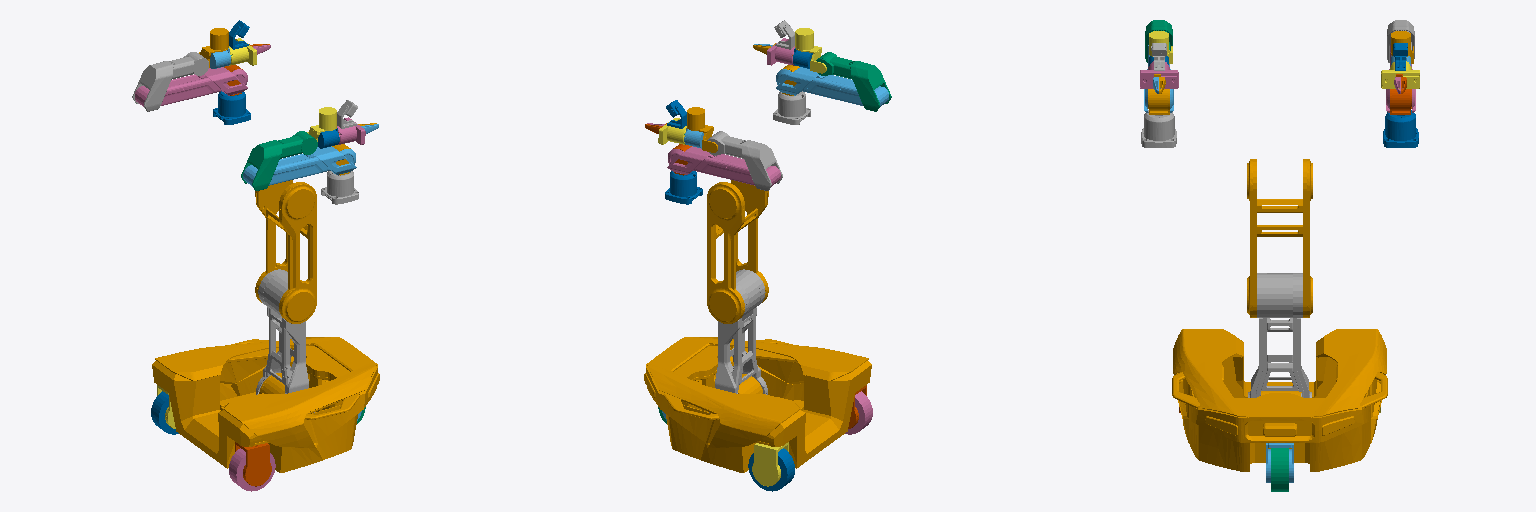
--- Facts derived from the render (not from the file) ---
3 views of the same robot in one strip: view 1: azimuth 30°, elevation 25°; view 2: azimuth 150°, elevation 25°; view 3: azimuth 270°, elevation 25° (orthographic).
Robot: mmp_revB_invconfig_upright_a1x — 34 links, 33 joints (17 revolute, 4 prismatic, 12 fixed); root link base_link; default pose: every joint at zero.
Links seen in each view (by area): view 1: base_link, torso_link2, torso_link1, left_arm_link2, right_arm_link2, right_arm_link3, left_arm_link3, steer_motor_link3, left_arm_base_link, right_arm_base_link, wheel_motor_link3, wheel_motor_link2 (+2 smaller); view 2: base_link, torso_link2, torso_link1, right_arm_link2, left_arm_link2, left_arm_link3, right_arm_link3, steer_motor_link2, right_arm_base_link, left_arm_base_link, right_arm_link4, wheel_motor_link2 (+2 smaller); view 3: base_link, torso_link1, torso_link2, left_arm_base_link, right_arm_base_link, wheel_motor_link1, left_gripper_link, right_gripper_link, left_arm_link1, right_arm_link1.
Link boxes in pixels (left/top/right/bottom): base_link: left=152, top=337, right=379, bottom=472; torso_link2: left=255, top=180, right=316, bottom=323; torso_link1: left=256, top=269, right=314, bottom=412; left_arm_link2: left=135, top=67, right=247, bottom=106; right_arm_link2: left=243, top=146, right=356, bottom=186; right_arm_link3: left=241, top=131, right=317, bottom=190; left_arm_link3: left=132, top=52, right=208, bottom=111; steer_motor_link3: left=235, top=442, right=271, bottom=486; left_arm_base_link: left=213, top=91, right=250, bottom=124; right_arm_base_link: left=321, top=171, right=358, bottom=204; wheel_motor_link3: left=229, top=448, right=275, bottom=491; wheel_motor_link2: left=151, top=391, right=178, bottom=434; base_link: left=644, top=337, right=871, bottom=472; torso_link2: left=707, top=180, right=768, bottom=323; torso_link1: left=709, top=269, right=767, bottom=412; right_arm_link2: left=776, top=67, right=888, bottom=106; left_arm_link2: left=667, top=146, right=780, bottom=186; left_arm_link3: left=707, top=131, right=782, bottom=190; right_arm_link3: left=816, top=52, right=891, bottom=111; steer_motor_link2: left=752, top=442, right=788, bottom=486; right_arm_base_link: left=773, top=91, right=810, bottom=124; left_arm_base_link: left=665, top=171, right=702, bottom=204; right_arm_link4: left=795, top=28, right=826, bottom=73; wheel_motor_link2: left=748, top=448, right=794, bottom=491; base_link: left=1172, top=329, right=1387, bottom=471; torso_link1: left=1248, top=273, right=1311, bottom=397; torso_link2: left=1247, top=159, right=1312, bottom=317; left_arm_base_link: left=1383, top=110, right=1418, bottom=147; right_arm_base_link: left=1141, top=110, right=1176, bottom=147; wheel_motor_link1: left=1271, top=448, right=1288, bottom=491; left_gripper_link: left=1381, top=61, right=1419, bottom=88; right_gripper_link: left=1140, top=61, right=1178, bottom=88; left_arm_link1: left=1390, top=89, right=1411, bottom=114; right_arm_link1: left=1148, top=89, right=1169, bottom=114.
Size in the robot's own frame: 0.6042 by 0.7783 by 1.29 metres.
31 mesh visuals loaded from 32 distinct referenced files (31 OBJ); not drawn: 1 (reference not matched to a file when rendering).

URDF robot description (mmp_revB_invconfig_upright_a1x):
<?xml version="1.0" encoding="utf-8"?>
<!-- This URDF was automatically created by SolidWorks to URDF Exporter! Originally created by Stephen Brawner ([email redacted]) 
     Commit Version: 1.6.0-4-g7f85cfe  Build Version: 1.6.7995.38578
     For more information, please see http://wiki.ros.org/sw_urdf_exporter -->
<robot
  name="mmp_revB_invconfig_upright_a1x">
  <link
    name="base_link">
    <inertial>
      <origin
        xyz="0.0718033657159837 -0.0016279349766449 0.128750850965126"
        rpy="0 0 0" />
      <mass
        value="25.114" />
      <inertia
        ixx="0.190993086908409"
        ixy="7.01153963312701E-05"
        ixz="-0.00785937977791519"
        iyy="0.152035922355254"
        iyz="-0.000494758898409346"
        izz="0.29121889848538" />
    </inertial>
    <visual>
      <origin
        xyz="0 0 0"
        rpy="0 0 0" />
      <geometry>
        <mesh
          filename="meshes/base_link.obj" />
      </geometry>
      
    </visual>
    <collision>
      <origin
        xyz="0 0 0"
        rpy="0 0 0" />
      <geometry>
        <mesh
          filename="meshes/base_link.obj" />
      </geometry>
    </collision>
  </link>
  <link
    name="steer_motor_link1">
    <inertial>
      <origin
        xyz="-1.76196610579549E-07 -7.75116053202478E-05 -0.0852489956386505"
        rpy="0 0 0" />
      <mass
        value="1.5" />
      <inertia
        ixx="0.000338657650556839"
        ixy="6.14197589167664E-09"
        ixz="6.6056392682533E-09"
        iyy="0.000503900951850049"
        iyz="3.6051622873431E-08"
        izz="0.000211486748436409" />
    </inertial>
    <visual>
      <origin
        xyz="0 0 0"
        rpy="0 0 0" />
      <geometry>
        <mesh
          filename="meshes/steer_motor_link1.obj" />
      </geometry>
      
    </visual>
    <collision>
      <origin
        xyz="0 0 0"
        rpy="0 0 0" />
      <geometry>
        <mesh
          filename="meshes/steer_motor_link1.obj" />
      </geometry>
    </collision>
  </link>
  <joint
    name="steer_motor_joint1"
    type="fixed">
    <origin
      xyz="0.29183 -0.0014897 0.18165"
      rpy="0 0 0" />
    <parent
      link="base_link" />
    <child
      link="steer_motor_link1" />
    <axis
      xyz="0 0 1" />
    <limit
      lower="-3.1416"
      upper="3.1416"
      effort="20"
      velocity="20" />
  </joint>
  <link
    name="wheel_motor_link1">
    <inertial>
      <origin
        xyz="0 -9.99250577455509E-13 -2.34534613952064E-15"
        rpy="0 0 0" />
      <mass
        value="1.5" />
      <inertia
        ixx="0.00104702497304016"
        ixy="2.02186210571336E-18"
        ixz="-8.67361737988254E-20"
        iyy="0.00181031135070458"
        iyz="3.54126040189266E-17"
        izz="0.00104702497304016" />
    </inertial>
    <visual>
      <origin
        xyz="0 0 0"
        rpy="0 0 0" />
      <geometry>
        <mesh
          filename="meshes/wheel_motor_link1.obj" />
      </geometry>
      
    </visual>
    <collision>
      <origin
        xyz="0 0 0"
        rpy="0 0 0" />
      <geometry>
        <mesh
          filename="meshes/wheel_motor_link1.obj" />
      </geometry>
    </collision>
  </link>
  <joint
    name="wheel_motor_joint1"
    type="fixed">
    <origin
      xyz="0 0 -0.11165"
      rpy="0 0 0" />
    <parent
      link="steer_motor_link1" />
    <child
      link="wheel_motor_link1" />
    <axis
      xyz="0 1 0" />
  </joint>
  <link
    name="steer_motor_link2">
    <inertial>
      <origin
        xyz="1.76196610607304E-07 7.75116053202962E-05 -0.0852489956386505"
        rpy="0 0 0" />
      <mass
        value="1.5" />
      <inertia
        ixx="0.000338657650556839"
        ixy="6.1419758916829E-09"
        ixz="-6.6056392682485E-09"
        iyy="0.000503900951850049"
        iyz="-3.60516228734399E-08"
        izz="0.000211486748436408" />
    </inertial>
    <visual>
      <origin
        xyz="0 0 0"
        rpy="0 0 0" />
      <geometry>
        <mesh
          filename="meshes/steer_motor_link2.obj" />
      </geometry>
      
    </visual>
    <collision>
      <origin
        xyz="0 0 0"
        rpy="0 0 0" />
      <geometry>
        <mesh
          filename="meshes/steer_motor_link2.obj" />
      </geometry>
    </collision>
  </link>
  <joint
    name="steer_motor_joint2"
    type="revolute">
    <origin
      xyz="-0.16817 0.23851 0.18165"
      rpy="0 0 0" />
    <parent
      link="base_link" />
    <child
      link="steer_motor_link2" />
    <axis
      xyz="0 0 1" />
    <limit
      lower="-3.1416"
      upper="3.1416"
      effort="20"
      velocity="20" />
  </joint>
  <link
    name="wheel_motor_link2">
    <inertial>
      <origin
        xyz="2.77555756156289E-17 -1.94289029309402E-16 -2.34621350125863E-15"
        rpy="0 0 0" />
      <mass
        value="1.5" />
      <inertia
        ixx="0.00104702497304016"
        ixy="2.01102008398851E-18"
        ixz="-8.67361737988254E-20"
        iyy="0.00181031135070458"
        iyz="3.54092952964764E-17"
        izz="0.00104702497304016" />
    </inertial>
    <visual>
      <origin
        xyz="0 0 0"
        rpy="0 0 0" />
      <geometry>
        <mesh
          filename="meshes/wheel_motor_link2.obj" />
      </geometry>
      
    </visual>
    <collision>
      <origin
        xyz="0 0 0"
        rpy="0 0 0" />
      <geometry>
        <mesh
          filename="meshes/wheel_motor_link2.obj" />
      </geometry>
    </collision>
  </link>
  <joint
    name="wheel_motor_joint2"
    type="fixed">
    <origin
      xyz="0 0 -0.11165"
      rpy="0 0 0" />
    <parent
      link="steer_motor_link2" />
    <child
      link="wheel_motor_link2" />
    <axis
      xyz="0 1 0" />
  </joint>
  <link
    name="steer_motor_link3">
    <inertial>
      <origin
        xyz="1.76196610579549E-07 7.75116053202407E-05 -0.0852489956386505"
        rpy="0 0 0" />
      <mass
        value="1.5" />
      <inertia
        ixx="0.000338657650556839"
        ixy="6.14197589167356E-09"
        ixz="-6.60563926825079E-09"
        iyy="0.000503900951850049"
        iyz="-3.60516228734413E-08"
        izz="0.000211486748436408" />
    </inertial>
    <visual>
      <origin
        xyz="0 0 0"
        rpy="0 0 0" />
      <geometry>
        <mesh
          filename="meshes/steer_motor_link3.obj" />
      </geometry>
      
    </visual>
    <collision>
      <origin
        xyz="0 0 0"
        rpy="0 0 0" />
      <geometry>
        <mesh
          filename="meshes/steer_motor_link3.obj" />
      </geometry>
    </collision>
  </link>
  <joint
    name="steer_motor_joint3"
    type="revolute">
    <origin
      xyz="-0.16817 -0.24149 0.18165"
      rpy="0 0 0" />
    <parent
      link="base_link" />
    <child
      link="steer_motor_link3" />
    <axis
      xyz="0 0 1" />
    <limit
      lower="-3.1416"
      upper="3.1416"
      effort="20"
      velocity="20" />
  </joint>
  <link
    name="wheel_motor_link3">
    <inertial>
      <origin
        xyz="0 -1.94289029309402E-16 -2.34274405430668E-15"
        rpy="0 0 0" />
      <mass
        value="1.5" />
      <inertia
        ixx="0.00104702497304016"
        ixy="2.00017806226365E-18"
        ixz="-8.67361737988255E-20"
        iyy="0.00181031135070458"
        iyz="3.53868224535946E-17"
        izz="0.00104702497304016" />
    </inertial>
    <visual>
      <origin
        xyz="0 0 0"
        rpy="0 0 0" />
      <geometry>
        <mesh
          filename="meshes/wheel_motor_link3.obj" />
      </geometry>
      
    </visual>
    <collision>
      <origin
        xyz="0 0 0"
        rpy="0 0 0" />
      <geometry>
        <mesh
          filename="meshes/wheel_motor_link3.obj" />
      </geometry>
    </collision>
  </link>
  <joint
    name="wheel_motor_joint3"
    type="fixed">
    <origin
      xyz="0 0 -0.11165"
      rpy="0 0 0" />
    <parent
      link="steer_motor_link3" />
    <child
      link="wheel_motor_link3" />
    <axis
      xyz="0 1 0" />
  </joint>
  <link
    name="torso_link1">
    <inertial>
      <origin
        xyz="0.00321196798398059 0.0116566745256909 0.100697975240297"
        rpy="0 0 0" />
      <mass
        value="4.807" />
      <inertia
        ixx="0.00310511493924453"
        ixy="3.89455548949465E-06"
        ixz="-0.000112029811012738"
        iyy="0.00326868759782864"
        iyz="4.14882596510336E-05"
        izz="0.000354993987137864" />
    </inertial>
    <visual>
      <origin
        xyz="0 0 0"
        rpy="0 0 0" />
      <geometry>
        <mesh
          filename="meshes/torso_link1.obj" />
      </geometry>
      
    </visual>
    <collision>
      <origin
        xyz="0 0 0"
        rpy="0 0 0" />
      <geometry>
        <mesh
          filename="meshes/torso_link1.obj" />
      </geometry>
    </collision>
  </link>
  <joint
    name="torso_joint1"
    type="revolute">
    <origin
      xyz="0.091831 0.00036033 0.14865"
      rpy="0 0 0" />
    <parent
      link="base_link" />
    <child
      link="torso_link1" />
    <axis
      xyz="0 1 0" />
    <limit
      lower="-1.5708"
      upper="0.436333"
      effort="100"
      velocity="2.5" />
  </joint>
  <link
    name="torso_link2">
    <inertial>
      <origin
        xyz="0.00627300956924463 0.00536087570300695 0.184118796618929"
        rpy="0 0 0" />
      <mass
        value="2.779" />
      <inertia
        ixx="0.0309540761907757"
        ixy="-5.57959685881806E-07"
        ixz="0.000297952176364751"
        iyy="0.032517017639908"
        iyz="9.00096610164517E-07"
        izz="0.00185256464591929" />
    </inertial>
    <visual>
      <origin
        xyz="0 0 0"
        rpy="0 0 0" />
      <geometry>
        <mesh
          filename="meshes/torso_link2.obj" />
      </geometry>
      
    </visual>
    <collision>
      <origin
        xyz="0 0 0"
        rpy="0 0 0" />
      <geometry>
        <mesh
          filename="meshes/torso_link2.obj" />
      </geometry>
    </collision>
  </link>
  <joint
    name="torso_joint2"
    type="revolute">
    <origin
      xyz="0 -0.00185 0.35"
      rpy="0 0 0" />
    <parent
      link="torso_link1" />
    <child
      link="torso_link2" />
    <axis
      xyz="0 1 0" />
    <limit
      lower="-2.705262"
      upper="2.705262"
      effort="100"
      velocity="2.5" />
  </joint>
  <link
    name="torso_link3">
    <inertial>
      <origin
        xyz="-0.0416383086406449 0.000484599582373232 0.051111008977659"
        rpy="0 0 0" />
      <mass
        value="5.833" />
      <inertia
        ixx="0.00647219350010978"
        ixy="-4.51460802718021E-07"
        ixz="-1.28687447342324E-05"
        iyy="0.0054231706909373"
        iyz="-1.67510995383755E-07"
        izz="0.00845061936347779" />
    </inertial>
    <visual>
      <origin
        xyz="0 0 0"
        rpy="0 0 0" />
      <geometry>
        <mesh
          filename="meshes/torso_link3.obj" />
      </geometry>
      
    </visual>
    <collision>
      <origin
        xyz="0 0 0"
        rpy="0 0 0" />
      <geometry>
        <mesh
          filename="meshes/torso_link3.obj" />
      </geometry>
    </collision>
  </link>
  <joint
    name="torso_joint3"
    type="revolute">
    <origin
      xyz="9.6485E-05 0 0.35"
      rpy="0 0 0" />
    <parent
      link="torso_link2" />
    <child
      link="torso_link3" />
    <axis
      xyz="0 -1 0" />
    <limit
      lower="-1.5708"
      upper="1.5708"
      effort="100"
      velocity="2.5" />
  </joint>
  <link
    name="camera_head_left_link">
    <collision>
      <origin
        xyz="0 0 0"
        rpy="0 0 0" />
      <geometry>
        <mesh
          filename="meshes/camera_head_left_link.obj" />
      </geometry>
    </collision>
  </link>
  <joint
    name="camera_head_left_joint"
    type="fixed">
    <origin
      xyz="0.054947 0.03149 0.63214"
      rpy="-2.0952 4.1972E-05 -1.5709" />
    <parent
      link="torso_link3" />
    <child
      link="camera_head_left_link" />
    <axis
      xyz="0 0 0" />
  </joint>
  <link
    name="camera_head_right_link">
  </link>
  <joint
    name="camera_head_right_joint"
    type="fixed">
    <origin
      xyz="0.054943 -0.03351 0.63214"
      rpy="-2.0952 4.1972E-05 -1.5709" />
    <parent
      link="torso_link3" />
    <child
      link="camera_head_right_link" />
    <axis
      xyz="0 0 0" />
  </joint>
  <link
    name="left_arm_base_link">
    <inertial>
      <origin
        xyz="0.0030333225964161 -0.000695374211760413 0.0297999913998699"
        rpy="0 0 0" />
      <mass
        value="0.786" />
      <inertia
        ixx="0.000209638954503881"
        ixy="1.40428307955712E-06"
        ixz="5.68689686775343E-06"
        iyy="0.000199797107592004"
        iyz="-3.65725364306001E-06"
        izz="0.00023745988736141" />
    </inertial>
    <visual>
      <origin
        xyz="0 0 0"
        rpy="0 0 0" />
      <geometry>
        <mesh
          filename="meshes/left_arm_base_link.obj" />
      </geometry>
      
    </visual>
    <collision>
      <origin
        xyz="0 0 0"
        rpy="0 0 0" />
      <geometry>
        <mesh
          filename="meshes/left_arm_base_link.obj" />
      </geometry>
    </collision>
  </link>
  <joint
    name="left_arm_base_joint"
    type="fixed">
    <origin
      xyz="0 0.335 0.12306"
      rpy="0 0 0" />
    <parent
      link="torso_link3" />
    <child
      link="left_arm_base_link" />
    <axis
      xyz="0 0 0" />
  </joint>
  <link
    name="left_arm_link1">
    <inertial>
      <origin
        xyz="3.42079032877862E-07 -0.00198629091504759 0.0468866154783616"
        rpy="0 0 0" />
      <mass
        value="0.839" />
      <inertia
        ixx="0.000224145218285449"
        ixy="-4.77827595565432E-10"
        ixz="8.43370254611206E-09"
        iyy="0.000269809362921142"
        iyz="9.38346508356547E-09"
        izz="0.000218726872211685" />
    </inertial>
    <visual>
      <origin
        xyz="0 0 0"
        rpy="0 0 0" />
      <geometry>
        <mesh
          filename="meshes/left_arm_link1.obj" />
      </geometry>
      
    </visual>
    <collision>
      <origin
        xyz="0 0 0"
        rpy="0 0 0" />
      <geometry>
        <mesh
          filename="meshes/left_arm_link1.obj" />
      </geometry>
    </collision>
  </link>
  <joint
    name="left_arm_joint1"
    type="revolute">
    <origin
      xyz="0 0 0.08605"
      rpy="0 0 0" />
    <parent
      link="left_arm_base_link" />
    <child
      link="left_arm_link1" />
    <axis
      xyz="0 0 1" />
    <limit
      lower="-2.8798"
      upper="2.8798"
      effort="27"
      velocity="10.472" />
  </joint>
  <link
    name="left_arm_link2">
    <inertial>
      <origin
        xyz="-0.122675172740935 -0.0295384346078661 0.00365030178710546"
        rpy="0 0 0" />
      <mass
        value="1.09" />
      <inertia
        ixx="0.000388241930413796"
        ixy="-2.17638982375649E-05"
        ixz="8.91426532538946E-06"
        iyy="0.00274637473933513"
        iyz="1.19748272961647E-06"
        izz="0.00278012046088806" />
    </inertial>
    <visual>
      <origin
        xyz="0 0 0"
        rpy="0 0 0" />
      <geometry>
        <mesh
          filename="meshes/left_arm_link2.obj" />
      </geometry>
      
    </visual>
    <collision>
      <origin
        xyz="0 0 0"
        rpy="0 0 0" />
      <geometry>
        <mesh
          filename="meshes/left_arm_link2.obj" />
      </geometry>
    </collision>
  </link>
  <joint
    name="left_arm_joint2"
    type="revolute">
    <origin
      xyz="0 0.03075 0.04925"
      rpy="0 0 0" />
    <parent
      link="left_arm_link1" />
    <child
      link="left_arm_link2" />
    <axis
      xyz="0 1 0" />
    <limit
      lower="0"
      upper="3.1416"
      effort="50"
      velocity="12.5664" />
  </joint>
  <link
    name="left_arm_link3">
    <inertial>
      <origin
        xyz="0.0566624793223791 -0.0291316466078999 0.0568018844686509"
        rpy="0 0 0" />
      <mass
        value="0.739" />
      <inertia
        ixx="0.000257907545256439"
        ixy="1.02695451350475E-05"
        ixz="-0.000131693719602983"
        iyy="0.000671352233244435"
        iyz="-8.03382534299068E-06"
        izz="0.000550051611056369" />
    </inertial>
    <visual>
      <origin
        xyz="0 0 0"
        rpy="0 0 0" />
      <geometry>
        <mesh
          filename="meshes/left_arm_link3.obj" />
      </geometry>
      
    </visual>
    <collision>
      <origin
        xyz="0 0 0"
        rpy="0 0 0" />
      <geometry>
        <mesh
          filename="meshes/left_arm_link3.obj" />
      </geometry>
    </collision>
  </link>
  <joint
    name="left_arm_joint3"
    type="revolute">
    <origin
      xyz="-0.3 0.00025004 0"
      rpy="0 0 0" />
    <parent
      link="left_arm_link2" />
    <child
      link="left_arm_link3" />
    <axis
      xyz="0 1 0" />
    <limit
      lower="-3.3161"
      upper="0"
      effort="27"
      velocity="10.472" />
  </joint>
  <link
    name="left_arm_link4">
    <inertial>
      <origin
        xyz="0.0699840030193581 -0.0287504697364447 0.0541968318197228"
        rpy="0 0 0" />
      <mass
        value="0.419" />
      <inertia
        ixx="6.62006896114572E-05"
        ixy="-9.3635648969069E-09"
        ixz="-4.25876556256057E-09"
        iyy="6.79307239443371E-05"
        iyz="7.77726883989867E-07"
        izz="6.69265447808637E-05" />
    </inertial>
    <visual>
      <origin
        xyz="0 0 0"
        rpy="0 0 0" />
      <geometry>
        <mesh
          filename="meshes/left_arm_link4.obj" />
      </geometry>
      
    </visual>
    <collision>
      <origin
        xyz="0 0 0"
        rpy="0 0 0" />
      <geometry>
        <mesh
          filename="meshes/left_arm_link4.obj" />
      </geometry>
    </collision>
  </link>
  <joint
    name="left_arm_joint4"
    type="revolute">
    <origin
      xyz="0.1747 0.00049739 0.075485"
      rpy="0 0 0" />
    <parent
      link="left_arm_link3" />
    <child
      link="left_arm_link4" />
    <axis
      xyz="0 1 0" />
    <limit
      lower="-1.5708"
      upper="1.5708"
      effort="14"
      velocity="32.9867" />
  </joint>
  <link
    name="left_arm_link5">
    <inertial>
      <origin
        xyz="-0.000803198983898074 -2.29028914278118E-07 -0.0402656141956459"
        rpy="0 0 0" />
      <mass
        value="0.054" />
      <inertia
        ixx="5.80420988761095E-05"
        ixy="-1.94657864482709E-13"
        ixz="1.11613844426808E-14"
        iyy="5.76397557796697E-05"
        iyz="-3.56183851121823E-11"
        izz="5.68558379713068E-05" />
    </inertial>
    <visual>
      <origin
        xyz="0 0 0"
        rpy="0 0 0" />
      <geometry>
        <mesh
          filename="meshes/left_arm_link5.obj" />
      </geometry>
      
    </visual>
    <collision>
      <origin
        xyz="0 0 0"
        rpy="0 0 0" />
      <geometry>
        <mesh
          filename="meshes/left_arm_link5.obj" />
      </geometry>
    </collision>
  </link>
  <joint
    name="left_arm_joint5"
    type="revolute">
    <origin
      xyz="0.08 -0.031498 0.0405"
      rpy="0 0 0" />
    <parent
      link="left_arm_link4" />
    <child
      link="left_arm_link5" />
    <axis
      xyz="0 0 1" />
    <limit
      lower="-1.5708"
      upper="1.5708"
      effort="14"
      velocity="32.9867" />
  </joint>
  <link
    name="left_arm_link6">
    <inertial>
      <origin
        xyz="0.00709944426961403 -8.90673146347609E-10 -3.82632235882419E-05"
        rpy="0 0 0" />
      <mass
        value="0.031" />
      <inertia
        ixx="3.44527427683917E-06"
        ixy="-2.00656296989553E-13"
        ixz="-1.26136975189559E-09"
        iyy="1.82572780689222E-06"
        iyz="-3.95364679222355E-15"
        izz="1.81730990577526E-06" />
    </inertial>
    <visual>
      <origin
        xyz="0 0 0"
        rpy="0 0 0" />
      <geometry>
        <mesh
          filename="meshes/left_arm_link6.obj" />
      </geometry>
      
    </visual>
    <collision>
      <origin
        xyz="0 0 0"
        rpy="0 0 0" />
      <geometry>
        <mesh
          filename="meshes/left_arm_link6.obj" />
      </geometry>
    </collision>
  </link>
  <joint
    name="left_arm_joint6"
    type="revolute">
    <origin
      xyz="0.022503 0 -0.0405"
      rpy="0 0 0" />
    <parent
      link="left_arm_link5" />
    <child
      link="left_arm_link6" />
    <axis
      xyz="1 0 0" />
    <limit
      lower="-2.8798"
      upper="2.8798"
      effort="14"
      velocity="32.9867" />
  </joint>
  <link
    name="left_gripper_link">
    <inertial>
      <origin
        xyz="-0.0311072323899603 1.17979991887118E-08 7.93394685505433E-08"
        rpy="0 0 0" />
      <mass
        value="0.604" />
      <inertia
        ixx="0.000175881544189539"
        ixy="-6.06026450851008E-11"
        ixz="5.30643405624365E-10"
        iyy="9.86379407701341E-05"
        iyz="-8.18686692495892E-08"
        izz="0.000165121280580029" />
    </inertial>
    <visual>
      <origin
        xyz="0 0 0"
        rpy="0 0 0" />
      <geometry>
        <mesh
          filename="meshes/left_gripper_link.obj" />
      </geometry>
      
    </visual>
    <collision>
      <origin
        xyz="0 0 0"
        rpy="0 0 0" />
      <geometry>
        <mesh
          filename="meshes/left_gripper_link.obj" />
      </geometry>
    </collision>
  </link>
  <joint
    name="left_gripper_joint"
    type="fixed">
    <origin
      xyz="0.08165 0 0"
      rpy="0 0 0" />
    <parent
      link="left_arm_link6" />
    <child
      link="left_gripper_link" />
    <axis
      xyz="0 0 0" />
  </joint>
  <link
    name="left_D405_link">
    <inertial>
      <origin
        xyz="0.00904707172595565 0.0155186578135894 -0.00819594831599657"
        rpy="0 0 0" />
      <mass
        value="0.1" />
      <inertia
        ixx="2.7808294491585E-05"
        ixy="-4.06196123763752E-10"
        ixz="1.50543456146707E-08"
        iyy="2.1895142505718E-05"
        iyz="-3.73269688232892E-06"
        izz="2.07706210421564E-05" />
    </inertial>
    <visual>
      <origin
        xyz="0 0 0"
        rpy="0 0 0" />
      <geometry>
        <mesh
          filename="meshes/left_D405_link.obj" />
      </geometry>
      
    </visual>
    <collision>
      <origin
        xyz="0 0 0"
        rpy="0 0 0" />
      <geometry>
        <mesh
          filename="meshes/left_D405_link.obj" />
      </geometry>
    </collision>
  </link>
  <joint
    name="left_D405_joint"
    type="fixed">
    <origin
      xyz="-0.019206 0.009 0.074757"
      rpy="-2.268 0 -1.5708" />
    <parent
      link="left_gripper_link" />
    <child
      link="left_D405_link" />
    <axis
      xyz="0 0 0" />
  </joint>
  <link
    name="left_gripper_finger_link1">
    <inertial>
      <origin
        xyz="-0.0195895895552112 -0.0151136845490034 0.00542254359093075"
        rpy="0 0 0" />
      <mass
        value="0.020196517310345" />
      <inertia
        ixx="2.40569358477209E-06"
        ixy="3.9898459609048E-07"
        ixz="5.12152762183641E-08"
        iyy="5.71079298307516E-06"
        iyz="6.19467902008363E-08"
        izz="6.48482183930358E-06" />
    </inertial>
    <visual>
      <origin
        xyz="0 0 0"
        rpy="0 0 0" />
      <geometry>
        <mesh
          filename="meshes/left_gripper_finger_link1.obj" />
      </geometry>
      
    </visual>
    <collision>
      <origin
        xyz="0 0 0"
        rpy="0 0 0" />
      <geometry>
        <mesh
          filename="meshes/left_gripper_finger_link1.obj" />
      </geometry>
    </collision>
  </link>
  <joint
    name="left_gripper_finger_joint1"
    type="prismatic">
    <origin
      xyz="0.03689 0.013453 0.00012059"
      rpy="0 0 0" />
    <parent
      link="left_gripper_link" />
    <child
      link="left_gripper_finger_link1" />
    <axis
      xyz="0 1 0" />
    <limit
      lower="0"
      upper="0.05"
      effort="100"
      velocity="0.25" />
  </joint>
  <link
    name="left_gripper_finger_link2">
    <inertial>
      <origin
        xyz="-0.0195895857999098 0.0151136893508115 -0.00542254357246619"
        rpy="0 0 0" />
      <mass
        value="0.0201965174144991" />
      <inertia
        ixx="2.40569340151687E-06"
        ixy="-3.98983784827124E-07"
        ixz="-5.12152683073981E-08"
        iyy="5.71079321589929E-06"
        iyz="6.19467953006536E-08"
        izz="6.48482187274222E-06" />
    </inertial>
    <visual>
      <origin
        xyz="0 0 0"
        rpy="0 0 0" />
      <geometry>
        <mesh
          filename="meshes/left_gripper_finger_link2.obj" />
      </geometry>
      
    </visual>
    <collision>
      <origin
        xyz="0 0 0"
        rpy="0 0 0" />
      <geometry>
        <mesh
          filename="meshes/left_gripper_finger_link2.obj" />
      </geometry>
    </collision>
  </link>
  <joint
    name="left_gripper_finger_joint2"
    type="prismatic">
    <origin
      xyz="0.03689 -0.013453 -0.00012059"
      rpy="0 0 0" />
    <parent
      link="left_gripper_link" />
    <child
      link="left_gripper_finger_link2" />
    <axis
      xyz="0 1 0" />
    <limit
      lower="-0.05"
      upper="0"
      effort="100"
      velocity="0.25" />
  </joint>
  <link
    name="right_arm_base_link">
    <inertial>
      <origin
        xyz="0.00303332259650781 -0.000695374211141575 0.0297999913998387"
        rpy="0 0 0" />
      <mass
        value="0.786" />
      <inertia
        ixx="0.000209638954503626"
        ixy="1.40428308154529E-06"
        ixz="5.6868968683427E-06"
        iyy="0.000199797107592703"
        iyz="-3.6572536418827E-06"
        izz="0.000237459887361725" />
    </inertial>
    <visual>
      <origin
        xyz="0 0 0"
        rpy="0 0 0" />
      <geometry>
        <mesh
          filename="meshes/right_arm_base_link.obj" />
      </geometry>
      
    </visual>
    <collision>
      <origin
        xyz="0 0 0"
        rpy="0 0 0" />
      <geometry>
        <mesh
          filename="meshes/right_arm_base_link.obj" />
      </geometry>
    </collision>
  </link>
  <joint
    name="right_arm_base_joint"
    type="fixed">
    <origin
      xyz="0 -0.335 0.12306"
      rpy="0 0 0" />
    <parent
      link="torso_link3" />
    <child
      link="right_arm_base_link" />
    <axis
      xyz="0 0 0" />
  </joint>
  <link
    name="right_arm_link1">
    <inertial>
      <origin
        xyz="3.42079032877862E-07 -0.00198629091504759 0.0468866154783616"
        rpy="0 0 0" />
      <mass
        value="0.839" />
      <inertia
        ixx="0.000224145218285449"
        ixy="-4.77827595565432E-10"
        ixz="8.43370254611206E-09"
        iyy="0.000269809362921142"
        iyz="9.38346508356547E-09"
        izz="0.000218726872211685" />
    </inertial>
    <visual>
      <origin
        xyz="0 0 0"
        rpy="0 0 0" />
      <geometry>
        <mesh
          filename="meshes/right_arm_link1.obj" />
      </geometry>
      
    </visual>
    <collision>
      <origin
        xyz="0 0 0"
        rpy="0 0 0" />
      <geometry>
        <mesh
          filename="meshes/right_arm_link1.obj" />
      </geometry>
    </collision>
  </link>
  <joint
    name="right_arm_joint1"
    type="revolute">
    <origin
      xyz="0 0 0.08605"
      rpy="0 0 0" />
    <parent
      link="right_arm_base_link" />
    <child
      link="right_arm_link1" />
    <axis
      xyz="0 0 1" />
    <limit
      lower="-2.8798"
      upper="2.8798"
      effort="27"
      velocity="10.472" />
  </joint>
  <link
    name="right_arm_link2">
    <inertial>
      <origin
        xyz="-0.122675172740935 -0.0295384346078661 0.00365030178710546"
        rpy="0 0 0" />
      <mass
        value="1.09" />
      <inertia
        ixx="0.000388241930413796"
        ixy="-2.17638982375649E-05"
        ixz="8.91426532538946E-06"
        iyy="0.00274637473933513"
        iyz="1.19748272961647E-06"
        izz="0.00278012046088806" />
    </inertial>
    <visual>
      <origin
        xyz="0 0 0"
        rpy="0 0 0" />
      <geometry>
        <mesh
          filename="meshes/right_arm_link2.obj" />
      </geometry>
      
    </visual>
    <collision>
      <origin
        xyz="0 0 0"
        rpy="0 0 0" />
      <geometry>
        <mesh
          filename="meshes/right_arm_link2.obj" />
      </geometry>
    </collision>
  </link>
  <joint
    name="right_arm_joint2"
    type="revolute">
    <origin
      xyz="0 0.03075 0.04925"
      rpy="0 0 0" />
    <parent
      link="right_arm_link1" />
    <child
      link="right_arm_link2" />
    <axis
      xyz="0 1 0" />
    <limit
      lower="0"
      upper="3.1416"
      effort="50"
      velocity="12.5664" />
  </joint>
  <link
    name="right_arm_link3">
    <inertial>
      <origin
        xyz="0.0566624793223791 -0.0291316466078999 0.0568018844686509"
        rpy="0 0 0" />
      <mass
        value="0.739" />
      <inertia
        ixx="0.000257907545256439"
        ixy="1.02695451350475E-05"
        ixz="-0.000131693719602983"
        iyy="0.000671352233244435"
        iyz="-8.03382534299068E-06"
        izz="0.000550051611056369" />
    </inertial>
    <visual>
      <origin
        xyz="0 0 0"
        rpy="0 0 0" />
      <geometry>
        <mesh
          filename="meshes/right_arm_link3.obj" />
      </geometry>
      
    </visual>
    <collision>
      <origin
        xyz="0 0 0"
        rpy="0 0 0" />
      <geometry>
        <mesh
          filename="meshes/right_arm_link3.obj" />
      </geometry>
    </collision>
  </link>
  <joint
    name="right_arm_joint3"
    type="revolute">
    <origin
      xyz="-0.3 0.00025004 0"
      rpy="0 0 0" />
    <parent
      link="right_arm_link2" />
    <child
      link="right_arm_link3" />
    <axis
      xyz="0 1 0" />
    <limit
      lower="-3.3161"
      upper="0"
      effort="27"
      velocity="10.472" />
  </joint>
  <link
    name="right_arm_link4">
    <inertial>
      <origin
        xyz="0.0699840030193581 -0.0287504697364447 0.0541968318197228"
        rpy="0 0 0" />
      <mass
        value="0.419" />
      <inertia
        ixx="6.62006896114572E-05"
        ixy="-9.3635648969069E-09"
        ixz="-4.25876556256057E-09"
        iyy="6.79307239443371E-05"
        iyz="7.77726883989867E-07"
        izz="6.69265447808637E-05" />
    </inertial>
    <visual>
      <origin
        xyz="0 0 0"
        rpy="0 0 0" />
      <geometry>
        <mesh
          filename="meshes/right_arm_link4.obj" />
      </geometry>
      
    </visual>
    <collision>
      <origin
        xyz="0 0 0"
        rpy="0 0 0" />
      <geometry>
        <mesh
          filename="meshes/right_arm_link4.obj" />
      </geometry>
    </collision>
  </link>
  <joint
    name="right_arm_joint4"
    type="revolute">
    <origin
      xyz="0.1747 0.00049739 0.075485"
      rpy="0 0 0" />
    <parent
      link="right_arm_link3" />
    <child
      link="right_arm_link4" />
    <axis
      xyz="0 1 0" />
    <limit
      lower="-1.5708"
      upper="1.5708"
      effort="14"
      velocity="32.9867" />
  </joint>
  <link
    name="right_arm_link5">
    <inertial>
      <origin
        xyz="-0.000803198983898074 -2.29028914278118E-07 -0.0402656141956459"
        rpy="0 0 0" />
      <mass
        value="0.054" />
      <inertia
        ixx="5.80420988761095E-05"
        ixy="-1.94657864482709E-13"
        ixz="1.11613844426808E-14"
        iyy="5.76397557796697E-05"
        iyz="-3.56183851121823E-11"
        izz="5.68558379713068E-05" />
    </inertial>
    <visual>
      <origin
        xyz="0 0 0"
        rpy="0 0 0" />
      <geometry>
        <mesh
          filename="meshes/right_arm_link5.obj" />
      </geometry>
      
    </visual>
    <collision>
      <origin
        xyz="0 0 0"
        rpy="0 0 0" />
      <geometry>
        <mesh
          filename="meshes/right_arm_link5.obj" />
      </geometry>
    </collision>
  </link>
  <joint
    name="right_arm_joint5"
    type="revolute">
    <origin
      xyz="0.08 -0.031498 0.0405"
      rpy="0 0 0" />
    <parent
      link="right_arm_link4" />
    <child
      link="right_arm_link5" />
    <axis
      xyz="0 0 1" />
    <limit
      lower="-1.5708"
      upper="1.5708"
      effort="14"
      velocity="32.9867" />
  </joint>
  <link
    name="right_arm_link6">
    <inertial>
      <origin
        xyz="0.00709944426961403 -8.90673146347609E-10 -3.82632235882419E-05"
        rpy="0 0 0" />
      <mass
        value="0.031" />
      <inertia
        ixx="3.44527427683917E-06"
        ixy="-2.00656296989553E-13"
        ixz="-1.26136975189559E-09"
        iyy="1.82572780689222E-06"
        iyz="-3.95364679222355E-15"
        izz="1.81730990577526E-06" />
    </inertial>
    <visual>
      <origin
        xyz="0 0 0"
        rpy="0 0 0" />
      <geometry>
        <mesh
          filename="meshes/right_arm_link6.obj" />
      </geometry>
      
    </visual>
    <collision>
      <origin
        xyz="0 0 0"
        rpy="0 0 0" />
      <geometry>
        <mesh
          filename="meshes/right_arm_link6.obj" />
      </geometry>
    </collision>
  </link>
  <joint
    name="right_arm_joint6"
    type="revolute">
    <origin
      xyz="0.022503 0 -0.0405"
      rpy="0 0 0" />
    <parent
      link="right_arm_link5" />
    <child
      link="right_arm_link6" />
    <axis
      xyz="1 0 0" />
    <limit
      lower="-2.8798"
      upper="2.8798"
      effort="14"
      velocity="32.9867" />
  </joint>
  <link
    name="right_gripper_link">
    <inertial>
      <origin
        xyz="-0.0311072323899603 1.17979991887118E-08 7.93394685505433E-08"
        rpy="0 0 0" />
      <mass
        value="0.604" />
      <inertia
        ixx="0.000175881544189539"
        ixy="-6.06026450851008E-11"
        ixz="5.30643405624365E-10"
        iyy="9.86379407701341E-05"
        iyz="-8.18686692495892E-08"
        izz="0.000165121280580029" />
    </inertial>
    <visual>
      <origin
        xyz="0 0 0"
        rpy="0 0 0" />
      <geometry>
        <mesh
          filename="meshes/right_gripper_link.obj" />
      </geometry>
      
    </visual>
    <collision>
      <origin
        xyz="0 0 0"
        rpy="0 0 0" />
      <geometry>
        <mesh
          filename="meshes/right_gripper_link.obj" />
      </geometry>
    </collision>
  </link>
  <joint
    name="right_gripper_joint"
    type="fixed">
    <origin
      xyz="0.08165 0 0"
      rpy="0 0 0" />
    <parent
      link="right_arm_link6" />
    <child
      link="right_gripper_link" />
    <axis
      xyz="0 0 0" />
  </joint>
  <link
    name="right_D405_link">
    <inertial>
      <origin
        xyz="0.00904707172594749 0.0155186578138565 -0.00819594831521042"
        rpy="0 0 0" />
      <mass
        value="0.1" />
      <inertia
        ixx="2.78082944930657E-05"
        ixy="-4.06196131154851E-10"
        ixz="1.50543456329152E-08"
        iyy="2.18951425070333E-05"
        iyz="-3.73269688187078E-06"
        izz="2.07706210423581E-05" />
    </inertial>
    <visual>
      <origin
        xyz="0 0 0"
        rpy="0 0 0" />
      <geometry>
        <mesh
          filename="meshes/right_D405_link.obj" />
      </geometry>
      
    </visual>
    <collision>
      <origin
        xyz="0 0 0"
        rpy="0 0 0" />
      <geometry>
        <mesh
          filename="meshes/right_D405_link.obj" />
      </geometry>
    </collision>
  </link>
  <joint
    name="right_D405_joint"
    type="fixed">
    <origin
      xyz="-0.019206 0.009 0.074757"
      rpy="-2.268 0 -1.5708" />
    <parent
      link="right_gripper_link" />
    <child
      link="right_D405_link" />
    <axis
      xyz="0 0 0" />
  </joint>
  <link
    name="right_gripper_finger_link1">
    <inertial>
      <origin
        xyz="-0.0195895895552112 -0.0151136845490034 0.00542254359093075"
        rpy="0 0 0" />
      <mass
        value="0.020196517310345" />
      <inertia
        ixx="2.40569358477209E-06"
        ixy="3.9898459609048E-07"
        ixz="5.12152762183641E-08"
        iyy="5.71079298307516E-06"
        iyz="6.19467902008363E-08"
        izz="6.48482183930358E-06" />
    </inertial>
    <visual>
      <origin
        xyz="0 0 0"
        rpy="0 0 0" />
      <geometry>
        <mesh
          filename="meshes/right_gripper_finger_link1.obj" />
      </geometry>
      
    </visual>
    <collision>
      <origin
        xyz="0 0 0"
        rpy="0 0 0" />
      <geometry>
        <mesh
          filename="meshes/right_gripper_finger_link1.obj" />
      </geometry>
    </collision>
  </link>
  <joint
    name="right_gripper_finger_joint1"
    type="prismatic">
    <origin
      xyz="0.03689 0.013453 0.00012059"
      rpy="0 0 0" />
    <parent
      link="right_gripper_link" />
    <child
      link="right_gripper_finger_link1" />
    <axis
      xyz="0 1 0" />
    <limit
      lower="0"
      upper="0.05"
      effort="100"
      velocity="0.25" />
  </joint>
  <link
    name="right_gripper_finger_link2">
    <inertial>
      <origin
        xyz="-0.0195895857999098 0.0151136893508115 -0.00542254357246619"
        rpy="0 0 0" />
      <mass
        value="0.0201965174144991" />
      <inertia
        ixx="2.40569340151687E-06"
        ixy="-3.98983784827124E-07"
        ixz="-5.12152683073981E-08"
        iyy="5.71079321589929E-06"
        iyz="6.19467953006536E-08"
        izz="6.48482187274222E-06" />
    </inertial>
    <visual>
      <origin
        xyz="0 0 0"
        rpy="0 0 0" />
      <geometry>
        <mesh
          filename="meshes/right_gripper_finger_link2.obj" />
      </geometry>
      
    </visual>
    <collision>
      <origin
        xyz="0 0 0"
        rpy="0 0 0" />
      <geometry>
        <mesh
          filename="meshes/right_gripper_finger_link2.obj" />
      </geometry>
    </collision>
  </link>
  <joint
    name="right_gripper_finger_joint2"
    type="prismatic">
    <origin
      xyz="0.03689 -0.013453 -0.00012059"
      rpy="0 0 0" />
    <parent
      link="right_gripper_link" />
    <child
      link="right_gripper_finger_link2" />
    <axis
      xyz="0 1 0" />
    <limit
      lower="-0.05"
      upper="0"
      effort="100"
      velocity="0.25" />
  </joint>
</robot>
